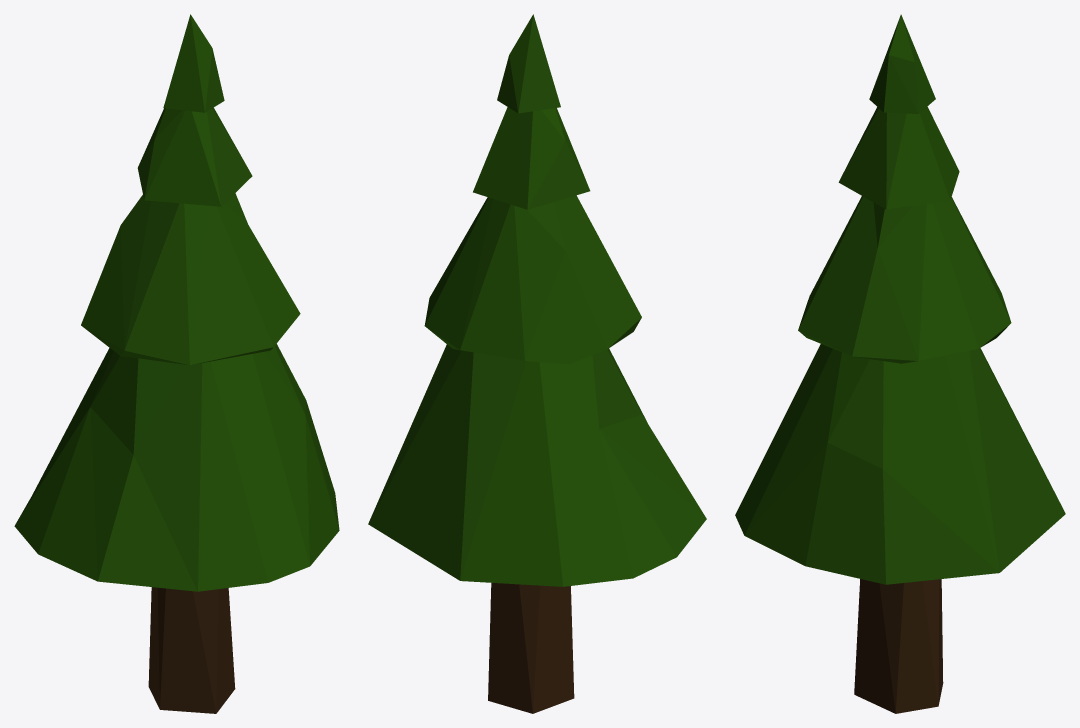
Rendered from tree2.fbx.
The picture shows the model from 3 angles, left to right: view 1: azimuth 30°, elevation 25°; view 2: azimuth 150°, elevation 25°; view 3: azimuth 270°, elevation 25°; orthographic projection.
Visible parts, largest first — view 1: Cone.003; view 2: Cone.003; view 3: Cone.003.
Boxes of the visible parts, left/top/right/bottom form: Cone.003: left=14, top=14, right=339, bottom=713; Cone.003: left=368, top=14, right=706, bottom=713; Cone.003: left=735, top=14, right=1065, bottom=713.
Size of the model in its own units: 5.36 by 12.25 by 5.41.
